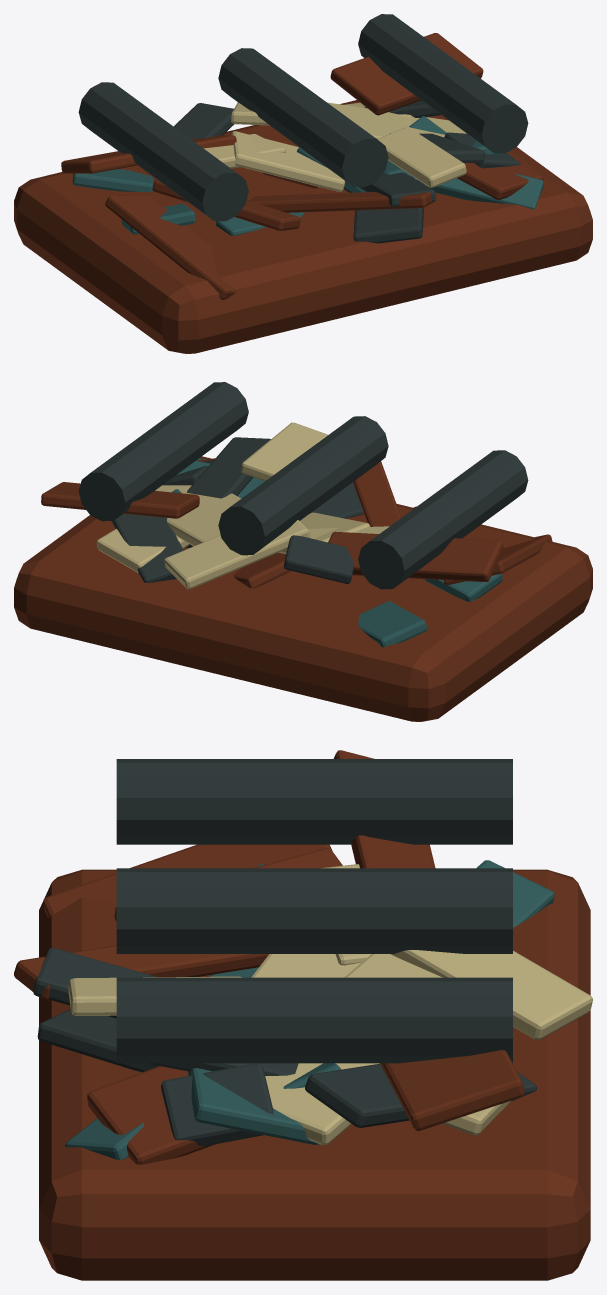
Rendered from scrap_pile.glb.
3 views of the same model, one above another, from view 1: azimuth 30°, elevation 25°; view 2: azimuth 150°, elevation 25°; view 3: azimuth 270°, elevation 25° (orthographic). The views are drawn at different scales.
Parts seen in each view (by area): view 1: scrap_pile; view 2: scrap_pile; view 3: scrap_pile.
Boxes of the visible parts, x1,y1,x2,y2 form: scrap_pile: (14, 14, 592, 353); scrap_pile: (14, 382, 592, 721); scrap_pile: (14, 750, 592, 1280).
Size of the model in its own units: 4.6 by 1.65 by 3.36.
